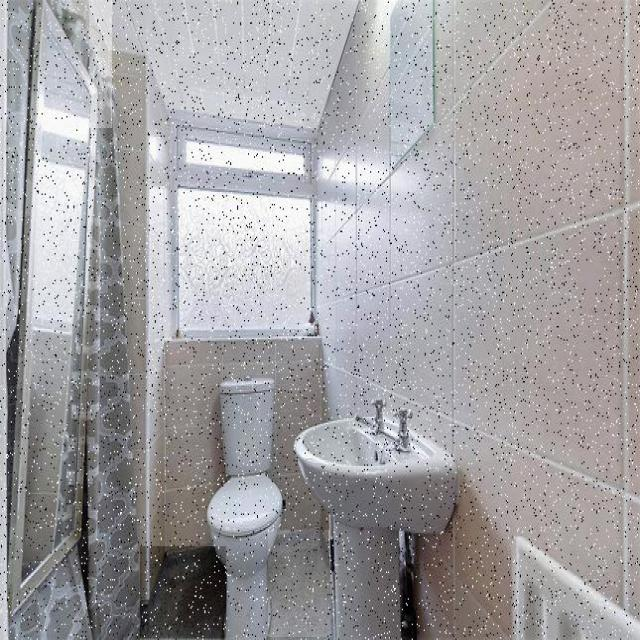Wall: (113, 0, 640, 637), (90, 0, 356, 128), (140, 547, 226, 639), (269, 530, 331, 637)
